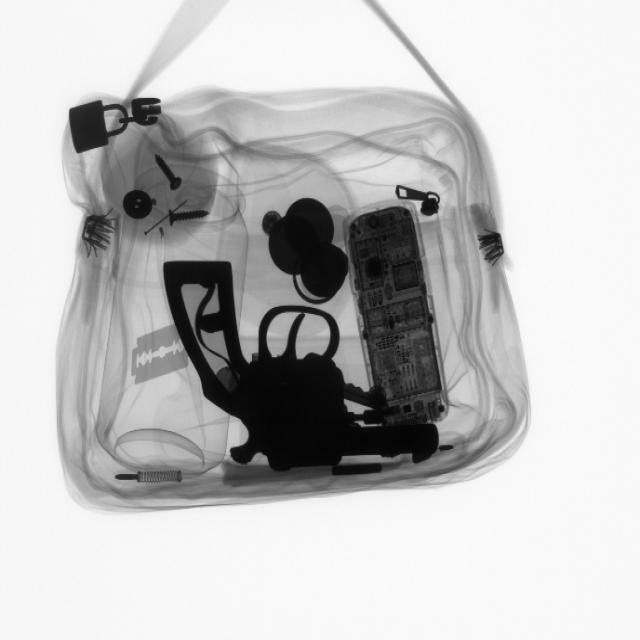BLADE: (130, 317, 199, 384)
GUN: (166, 252, 444, 475)
SCREW: (151, 146, 190, 201), (160, 201, 221, 235)
